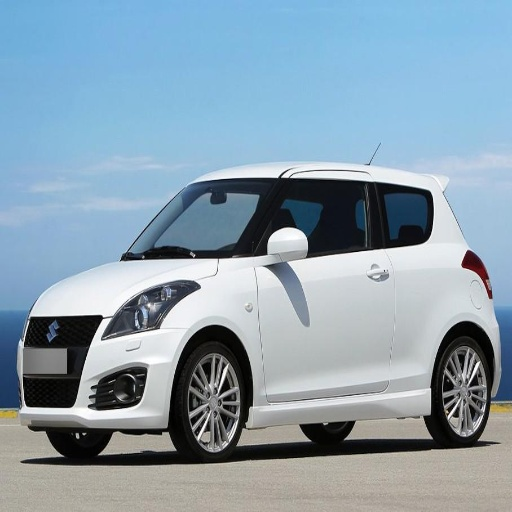back_left_door: (373, 181, 438, 387)
front_bumper: (18, 313, 189, 425)
front_glass: (122, 182, 276, 259)
front_left_door: (255, 179, 394, 397)
